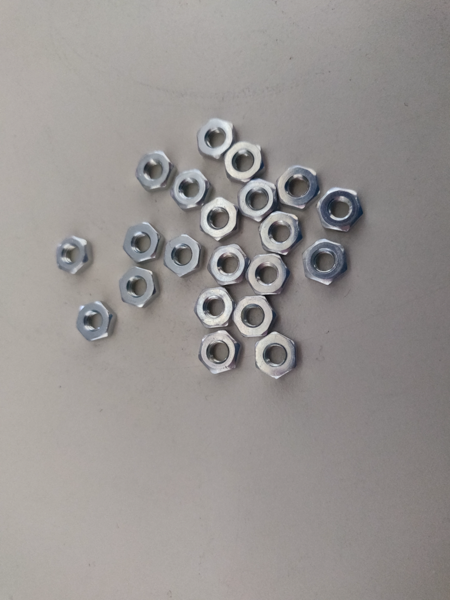nut: (303, 239, 349, 287), (256, 333, 300, 381), (317, 189, 365, 232), (199, 332, 243, 375), (246, 254, 289, 297), (277, 167, 321, 209), (200, 198, 240, 242), (234, 296, 276, 337), (210, 244, 251, 286), (260, 212, 301, 254), (172, 170, 214, 211), (197, 119, 238, 161), (164, 234, 204, 277), (78, 300, 117, 344), (225, 143, 267, 183), (120, 266, 158, 310), (195, 287, 234, 329), (123, 222, 161, 264), (239, 179, 277, 221), (136, 151, 175, 191), (58, 237, 94, 274)
